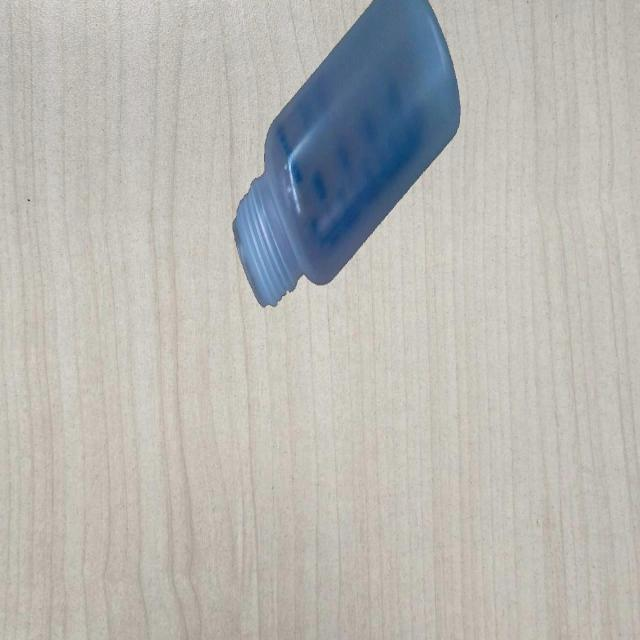bottle: (231, 0, 464, 310)
